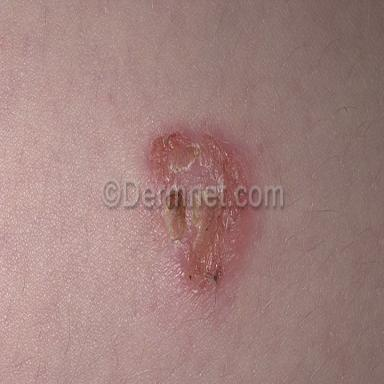Impetigo: (164, 209, 261, 293), (147, 131, 248, 179)
